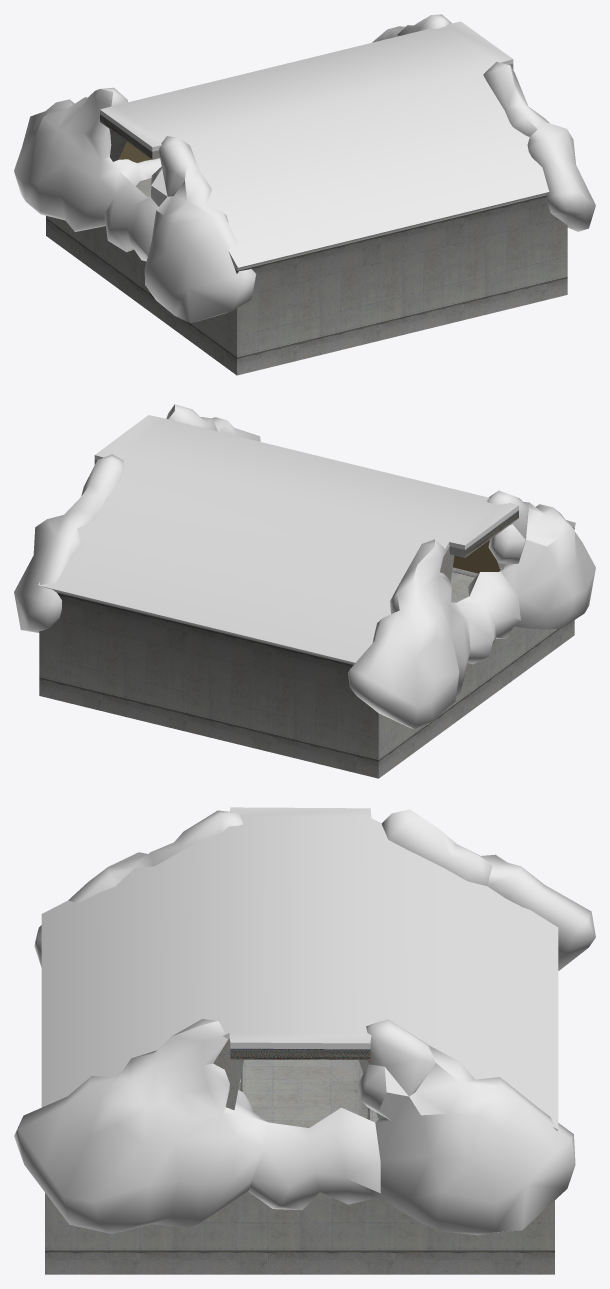
The model's file is yk_alikulkutunneli2.fbx.
3 renders of one model, top to bottom at view 1: azimuth 30°, elevation 25°; view 2: azimuth 150°, elevation 25°; view 3: azimuth 270°, elevation 25°, orthographic. The views are drawn at different scales.
Parts seen in each view (by area): view 1: Plane; view 2: Plane; view 3: Plane.
Boxes of the visible parts, bbox=[...] form: Plane: bbox=[14, 14, 595, 375]; Plane: bbox=[14, 404, 595, 778]; Plane: bbox=[14, 807, 595, 1274].
Bounding box in the file's own units: 511 × 217 × 456.
